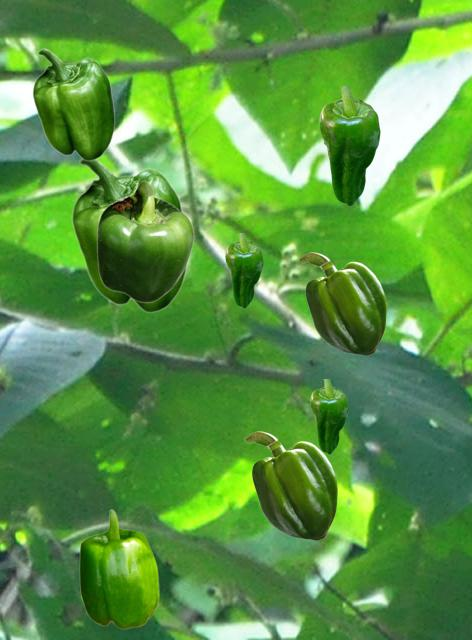bell_pepper: (71, 159, 187, 312), (96, 180, 193, 302), (244, 431, 336, 539), (79, 509, 158, 628), (32, 48, 114, 160), (298, 252, 385, 354), (319, 86, 379, 205), (310, 379, 347, 453), (225, 233, 262, 307)
